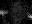person: (1, 12, 7, 17), (25, 14, 31, 18)
